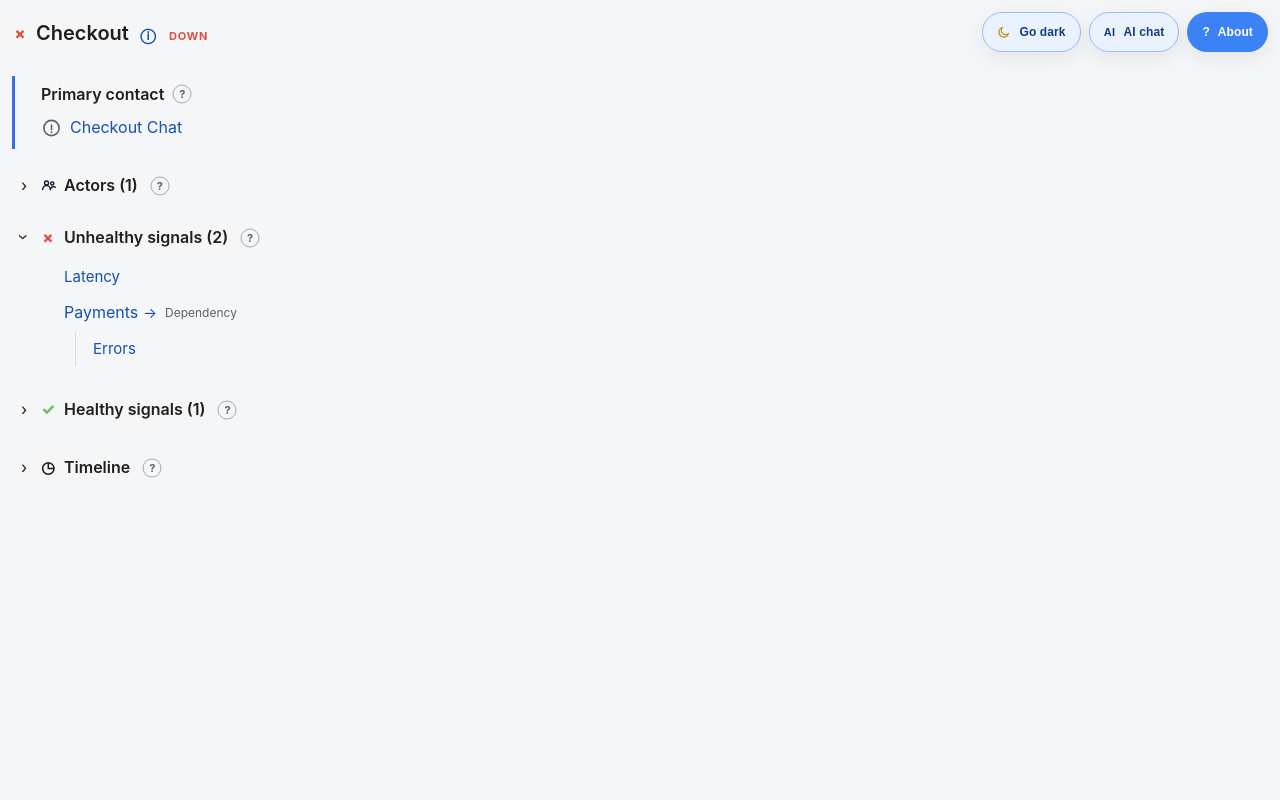
DetailsPanel contextual help › opens catalog item information with the detailed description
Click the button named "Catalog information for Checkout" at (148, 34), box [135,22,161,48]
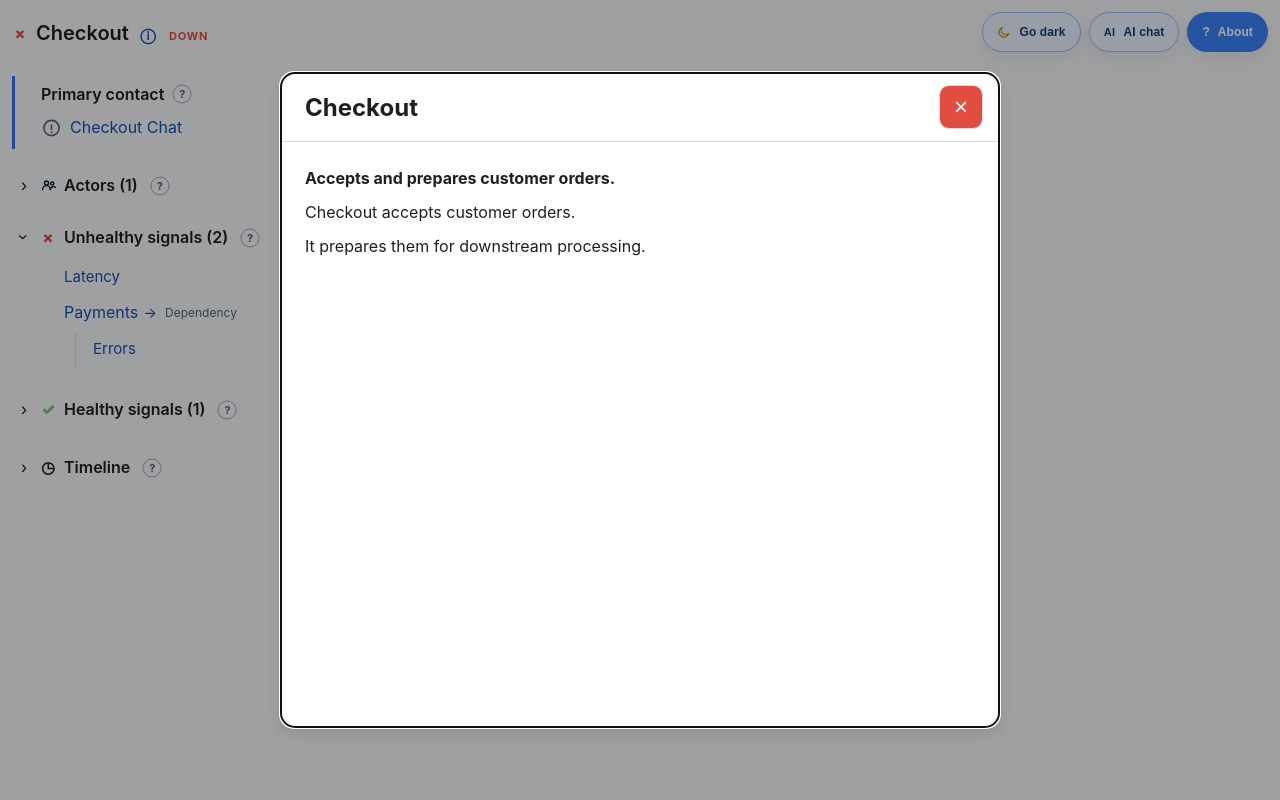
Result: the dialog named "Catalog information for Checkout" shows "Checkout" at [305,92,418,122]
Result: the dialog named "Catalog information for Checkout" shows "Checkout accepts customer orders." at [305,202,575,222]
Result: the dialog named "Catalog information for Checkout" shows "It prepares them for downstream processing." at [305,236,646,256]
